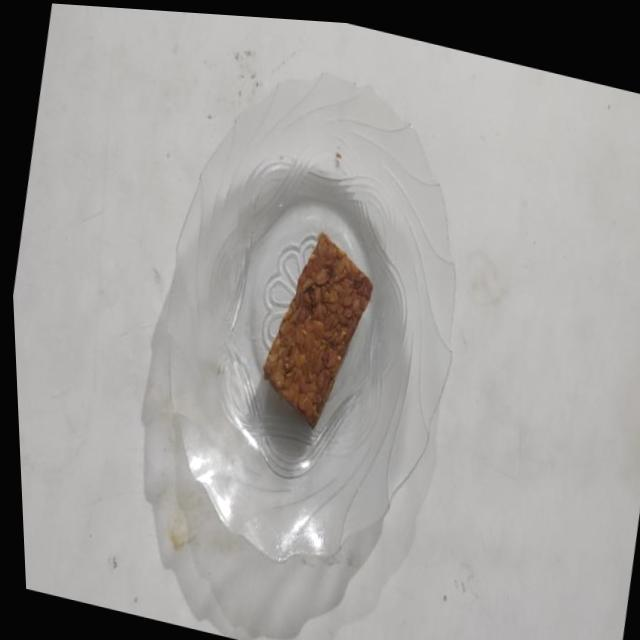tempe_goreng: (263, 233, 372, 427)
